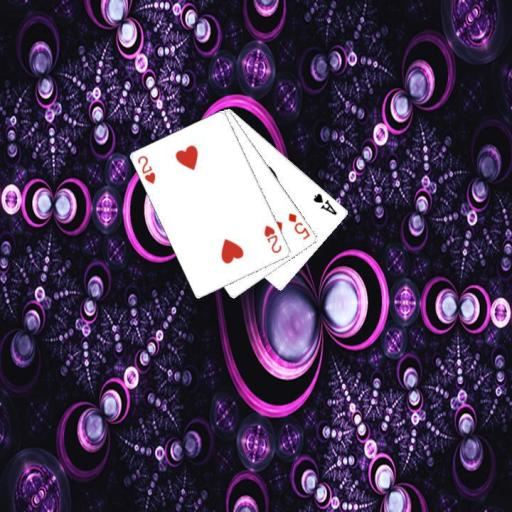2H: (135, 152, 158, 186), (261, 222, 283, 254)
5D: (285, 210, 312, 241)
AS: (310, 190, 339, 217)
